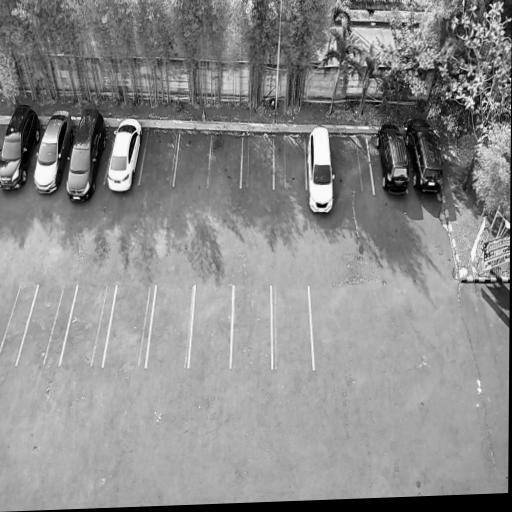Car: (61, 100, 113, 203), (26, 102, 78, 199), (0, 96, 47, 193), (103, 109, 146, 194), (403, 113, 446, 197), (373, 116, 411, 198), (307, 122, 336, 218)
Space Available: (17, 282, 78, 365), (59, 282, 117, 365), (102, 282, 156, 366), (146, 282, 195, 366), (188, 282, 232, 368), (271, 284, 314, 369), (231, 284, 272, 369), (0, 281, 38, 365), (139, 128, 180, 185), (173, 131, 211, 186), (208, 133, 242, 187), (241, 136, 274, 188), (274, 136, 306, 189)
